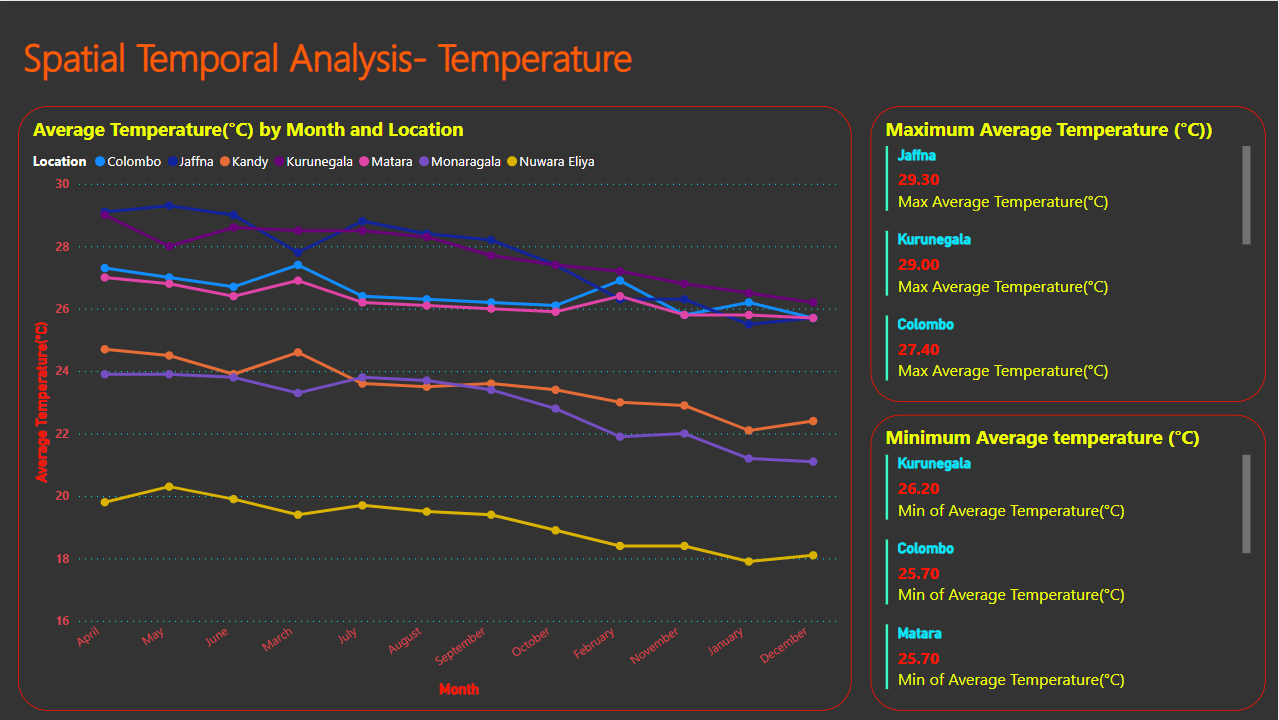

The page's visual inventory and layout, read from the dashboard file:
{"tool":"powerbi","page":{"name":"Average Temperature","canvas":[1280,720],"ordinal":2},"visuals":[{"type":"textbox","box":[20,25,755,80],"z":0},{"type":"lineChart","title":"Average Temperature(°C) by Month and Location","fields":{"Category":["avg_temp.Month"],"Y":["Sum(avg_temp.Average Temperature(°C))"],"Series":["avg_temp.Location"]},"box":[20,105,833.8,605],"z":1000},{"type":"multiRowCard","title":"Maximum Average Temperature (°C))","fields":{"Values":["Max(avg_temp.Average Temperature(°C))","avg_temp.Location"]},"box":[872.5,105,395,296.2],"z":2000},{"type":"multiRowCard","title":"Minimum Average temperature (°C)","fields":{"Values":["Min(avg_temp.Average Temperature(°C))","avg_temp.Location"]},"box":[872.5,413.8,395,296.2],"z":3000}]}

Visuals, with their boxes in screenshot pixels (x1, y1, x2, y2), scaled from the page's 1280x720 canvas onto the 1279x720 screenshot:
textbox: left=20, top=25, right=774, bottom=105
"Average Temperature(°C) by Month and Location" lineChart: left=20, top=105, right=853, bottom=710
"Maximum Average Temperature (°C))" multiRowCard: left=872, top=105, right=1267, bottom=401
"Minimum Average temperature (°C)" multiRowCard: left=872, top=414, right=1267, bottom=710
